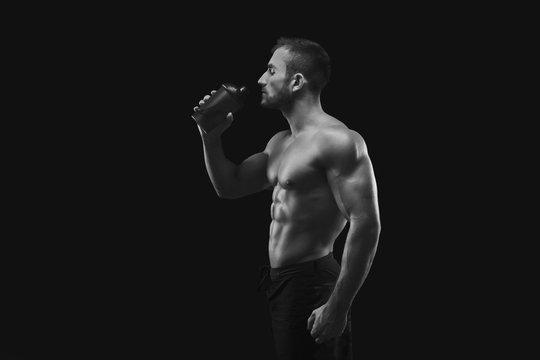gym bottle: (192, 83, 247, 130)
